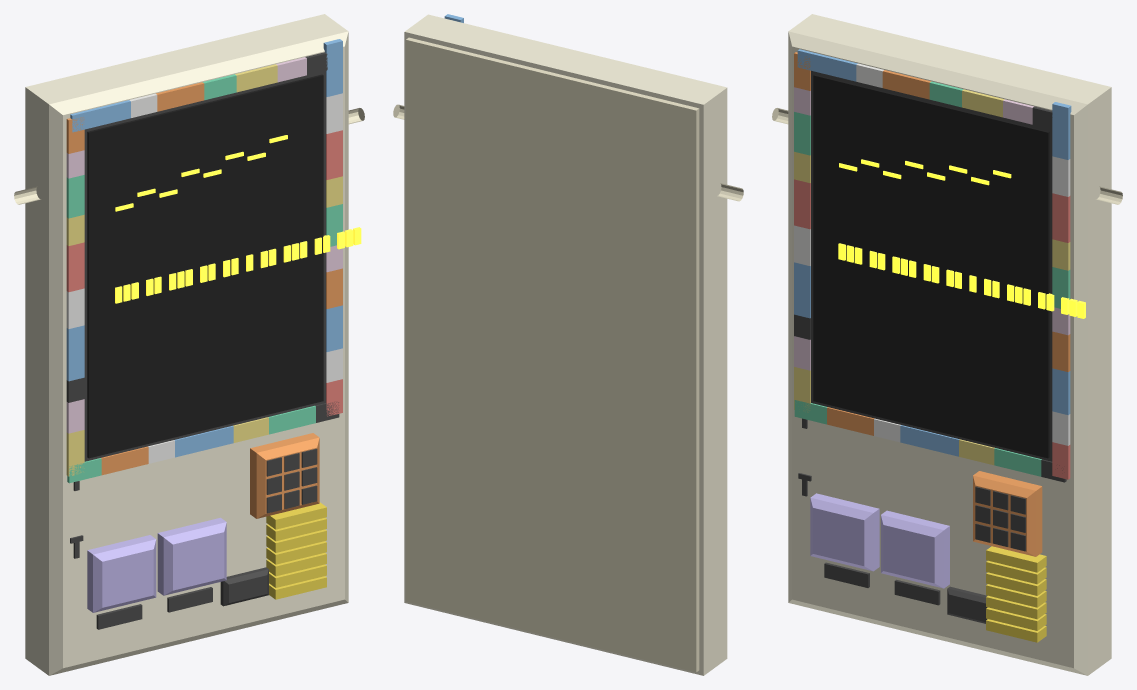
The model's file is xorr-console.glb.
3 views of the same model, side by side, from view 1: azimuth 30°, elevation 25°; view 2: azimuth 150°, elevation 25°; view 3: azimuth 330°, elevation 25° (orthographic).
Visible parts, largest first — view 1: screen, shell, ink, keys-lilac, coins, tape-blue, readout, tape-green, tape-yellow, key-orange, tape-orange, tape-paper (+4 smaller); view 2: shell-edge, shell; view 3: screen, shell, ink, keys-lilac, coins, tape-blue, readout, tape-green, tape-yellow, key-orange, tape-orange, tape-paper (+4 smaller).
Part boxes in pixels (x1,y1,x2,y2): screen: (87,74,323,458); shell: (25,14,348,675); ink: (70,70,325,629); keys-lilac: (87,517,226,612); coins: (266,502,326,599); tape-blue: (66,39,342,457); readout: (115,135,361,303); tape-green: (66,74,342,483); tape-yellow: (66,64,342,476); key-orange: (250,433,319,518); tape-orange: (66,82,342,475); tape-paper: (66,93,342,463); shell-edge: (393,37,743,672); shell: (404,14,727,675); screen: (813,74,1049,458); shell: (788,14,1111,675); ink: (798,70,1052,623); keys-lilac: (810,493,949,588); coins: (986,546,1046,642); tape-blue: (794,49,1071,456); readout: (838,159,1085,318); tape-green: (794,81,1070,476); tape-yellow: (794,89,1070,465); key-orange: (973,471,1042,556); tape-orange: (794,52,1070,435); tape-paper: (794,63,1070,445).
Bounding box in the file's own units: 1.17 × 1.86 × 0.25.
